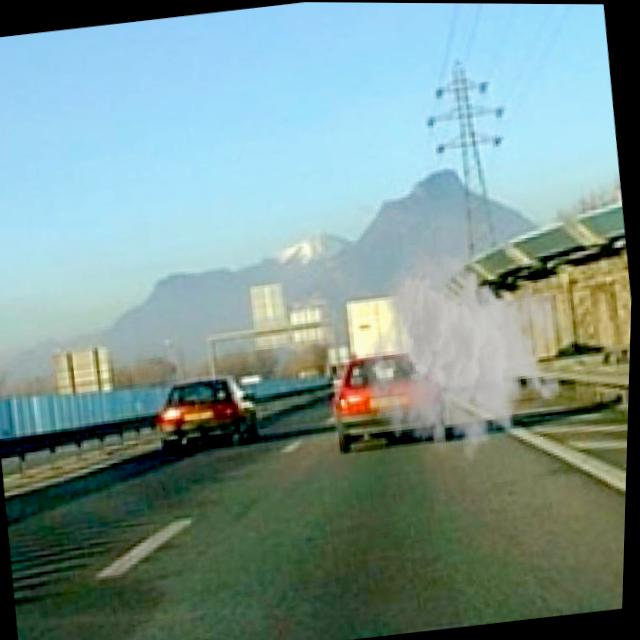no_helmet: (352, 227, 579, 481)
